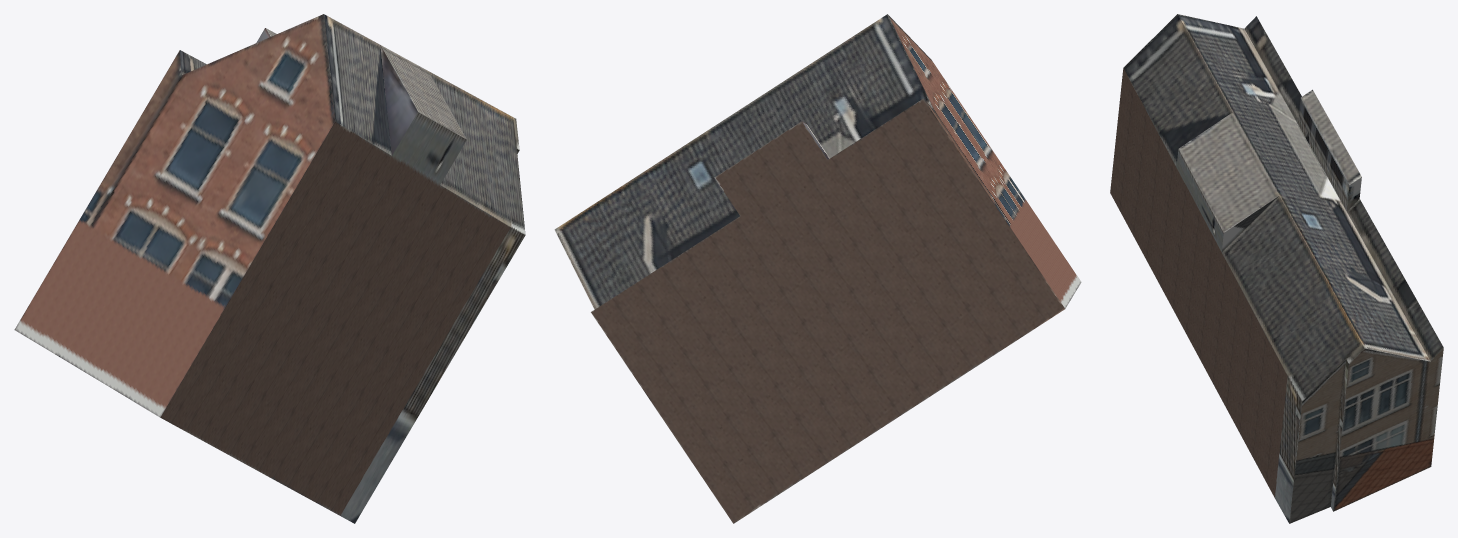
The picture shows the model from 3 angles, left to right: view 1: azimuth 30°, elevation 25°; view 2: azimuth 150°, elevation 25°; view 3: azimuth 270°, elevation 25°; orthographic projection. The views are drawn at different scales.
Visible parts, largest first — view 1: BAG_0599100000656925 (×4); view 2: BAG_0599100000656925 (×2); view 3: BAG_0599100000656925 (×5).
Part boxes in pixels (bbox=[...]): BAG_0599100000656925 (×4): bbox=[14, 14, 525, 523]; BAG_0599100000656925 (×2): bbox=[554, 14, 1081, 523]; BAG_0599100000656925 (×5): bbox=[1110, 14, 1443, 523].
Size of the model in its own units: 16.16 by 15.67 by 10.08.
1 material, 1 textured.
